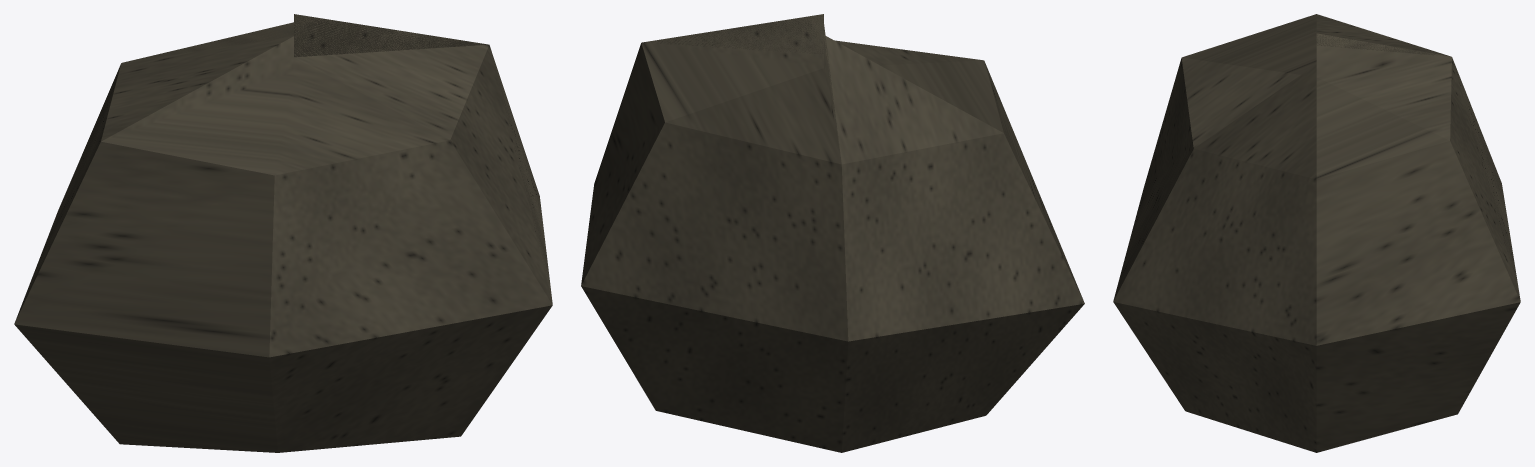
Rendered from PROP-25FFB21EAFCE_lod2.glb.
3 views of the same model, side by side, from view 1: azimuth 30°, elevation 25°; view 2: azimuth 150°, elevation 25°; view 3: azimuth 270°, elevation 25° (orthographic). The views are drawn at different scales.
Parts seen in each view (by area): view 1: rock.004; view 2: rock.004; view 3: rock.004.
Boxes of the visible parts, x1,y1,x2,y2 form: rock.004: [14, 14, 552, 452]; rock.004: [581, 14, 1084, 452]; rock.004: [1113, 14, 1520, 452].
Bounding box in the file's own units: 1.08 × 0.7675 × 0.821.
Materials: 1 (1 with a texture image).
